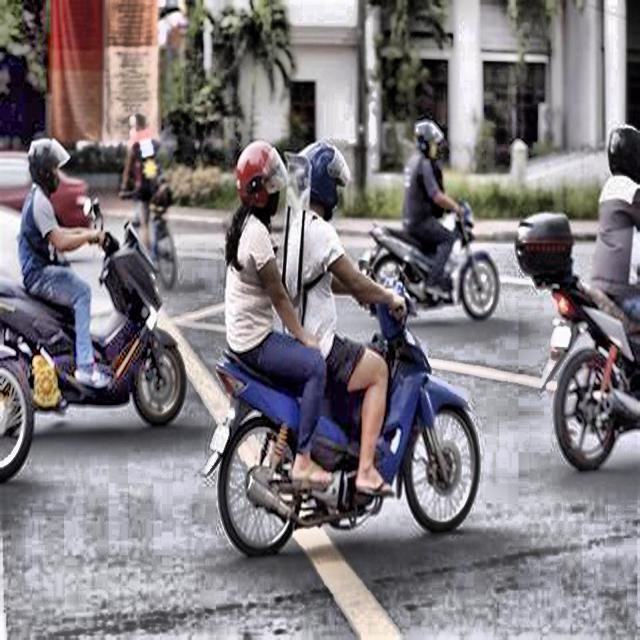motorcycle: (194, 250, 486, 560), (0, 207, 190, 433), (354, 195, 502, 324)
